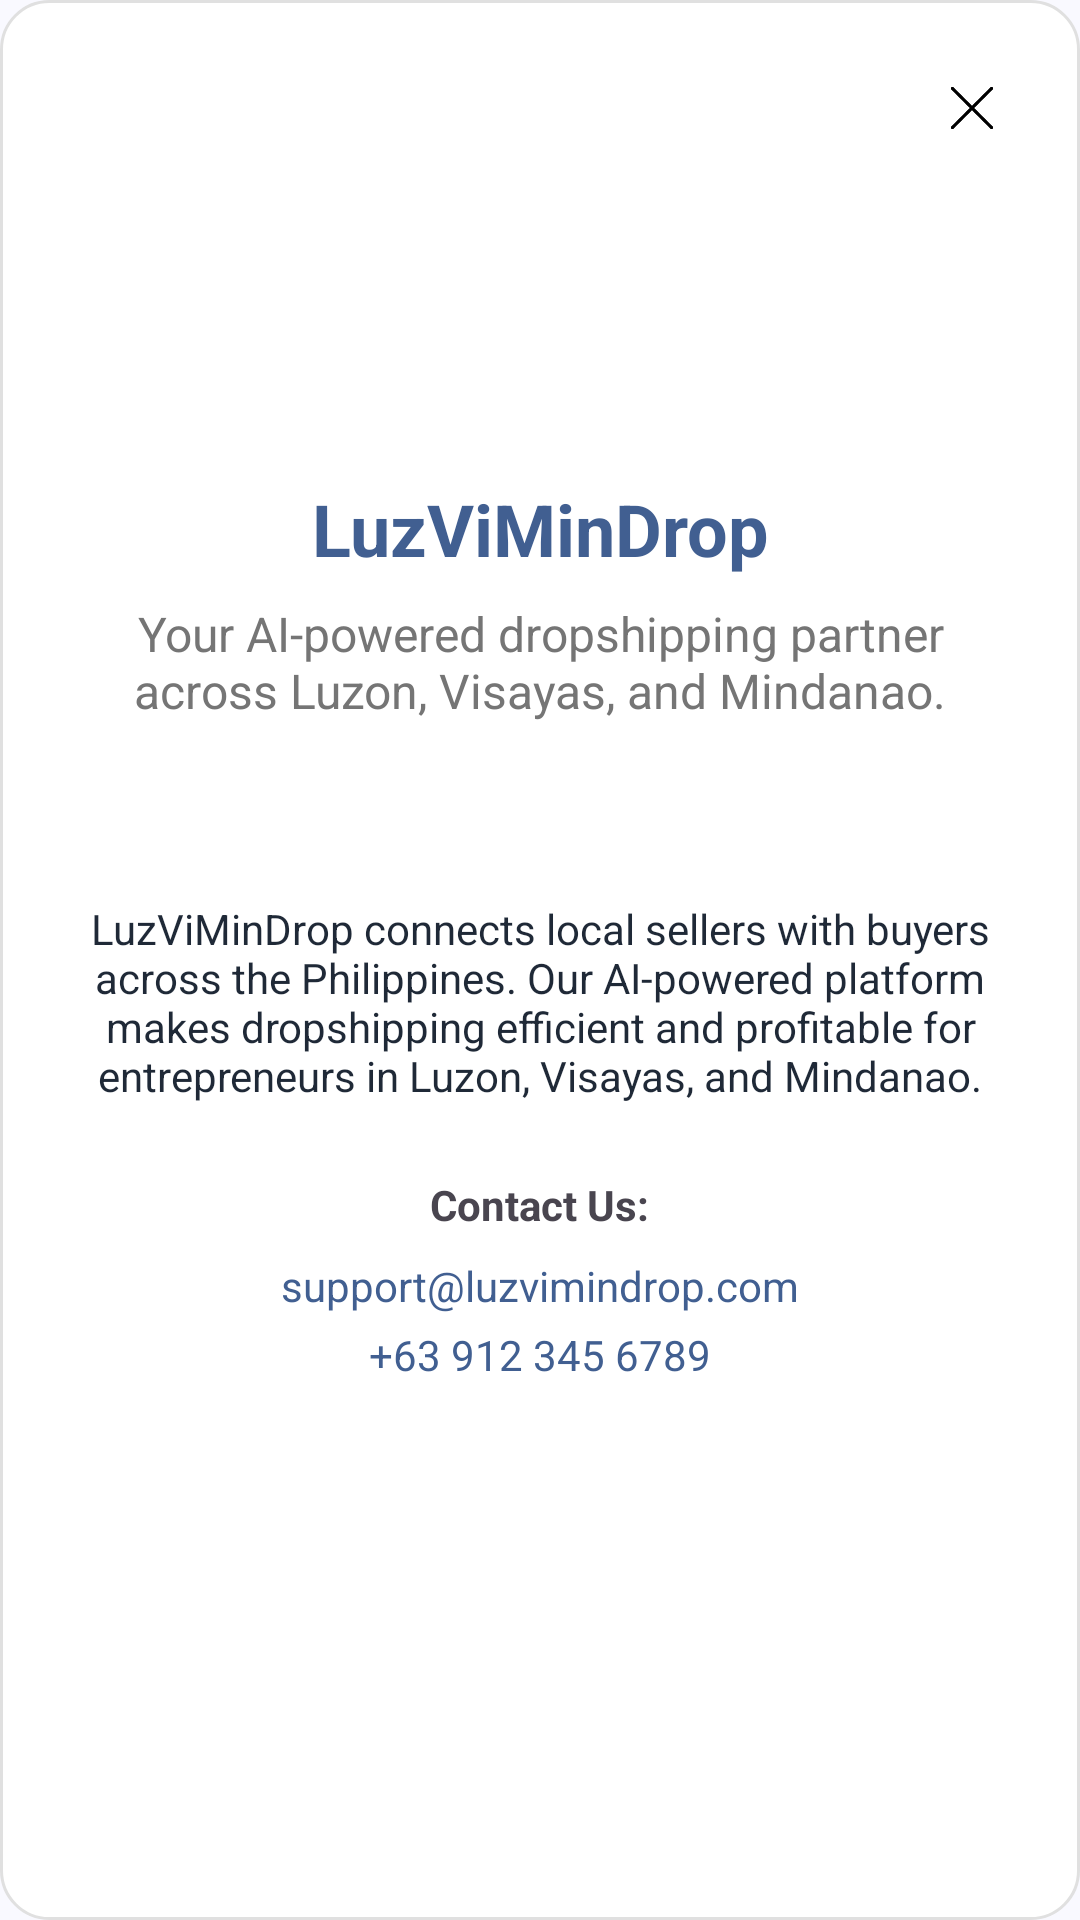

Screen size 1080 x 1920. Icon name, then its box in pixels as (x1, y1, x2, y2):
close: (951, 87, 993, 129)
